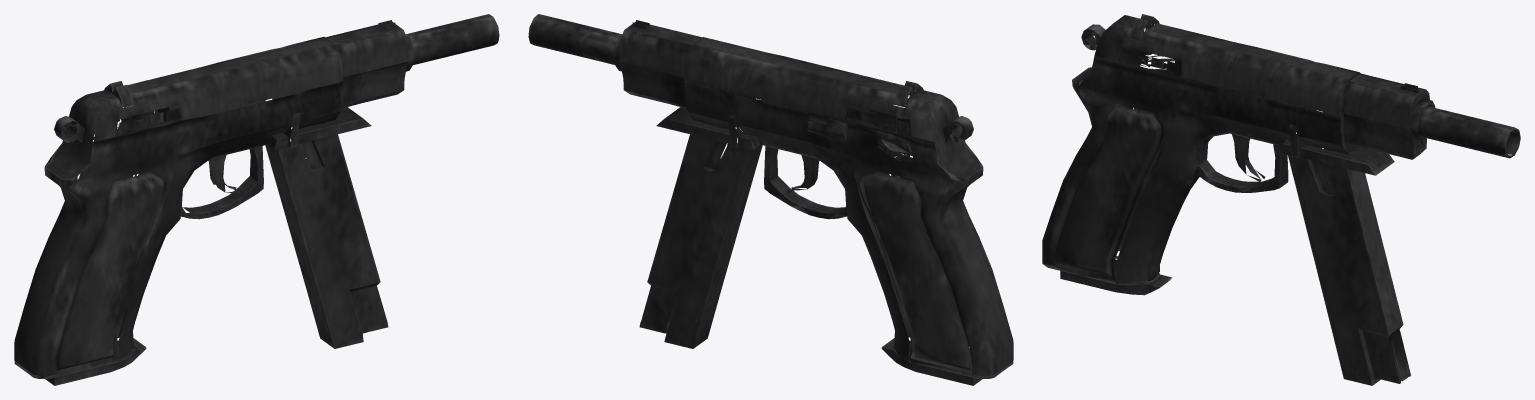
The picture shows the model from 3 angles, left to right: view 1: azimuth 30°, elevation 25°; view 2: azimuth 150°, elevation 25°; view 3: azimuth 330°, elevation 25°; orthographic projection.
Parts seen in each view (by area): view 1: merged; view 2: merged; view 3: merged.
Boxes of the visible parts, <box> form: merged: <box>14,14,499,385</box>; merged: <box>528,14,1013,385</box>; merged: <box>1042,14,1520,385</box>.
Size of the model in its own units: 27.76 by 17.61 by 3.66.
Materials: 1 (1 with a texture image).
